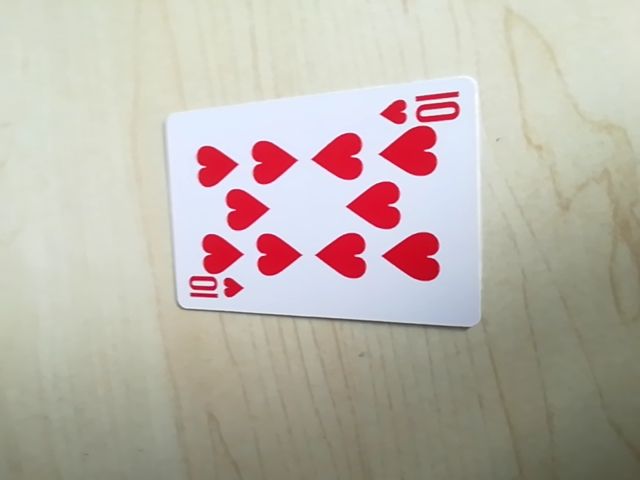hx 10: (378, 85, 464, 128), (181, 274, 248, 310)
